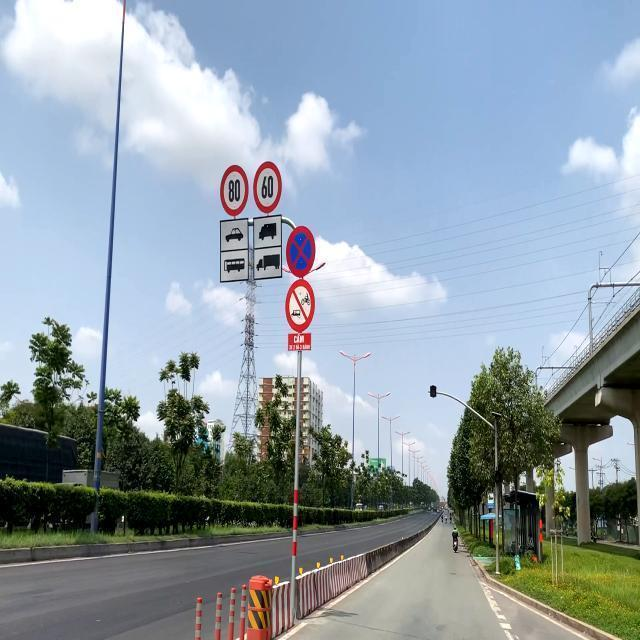127-toc-do-toi-da-60: (250, 160, 284, 212)
127-toc-do-toi-da-80: (219, 164, 251, 216)
130-cam-dung-va-do-xe: (285, 224, 317, 276)
